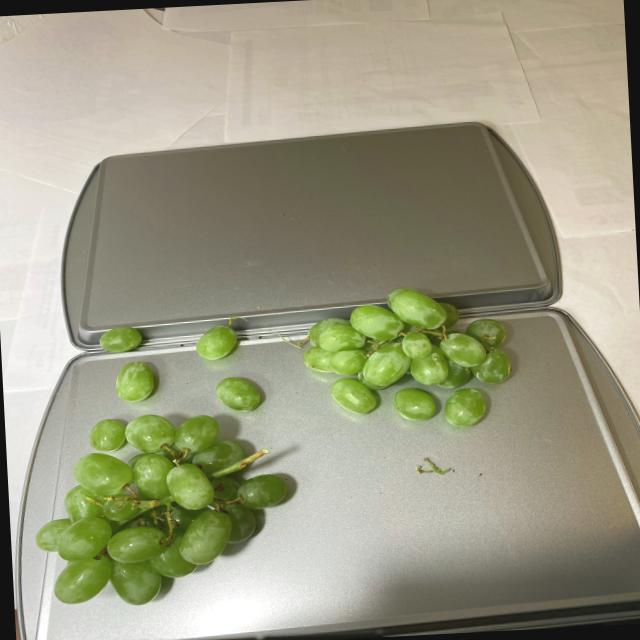grapes: (28, 310, 296, 612), (293, 284, 522, 437)
